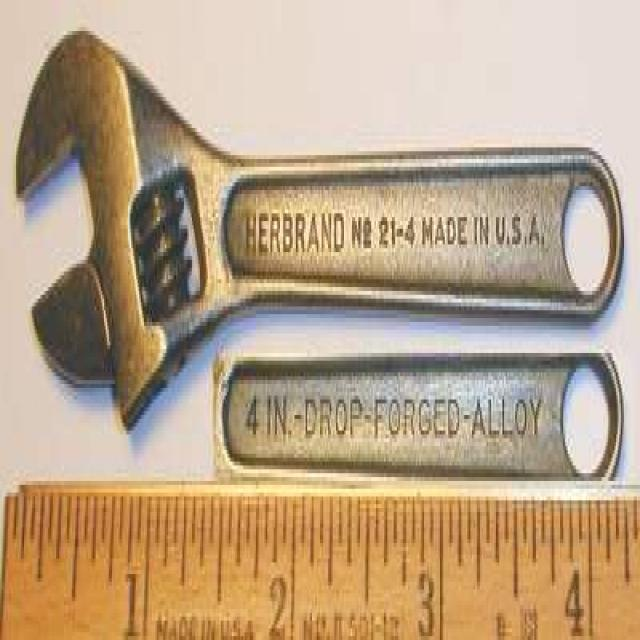wrench: (9, 12, 624, 422)
